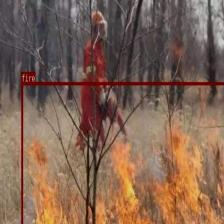fire: (21, 81, 223, 224)
